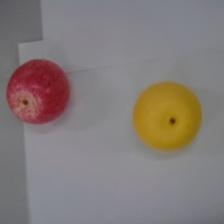red: (5, 57, 71, 126)
yellow: (132, 80, 202, 152)
